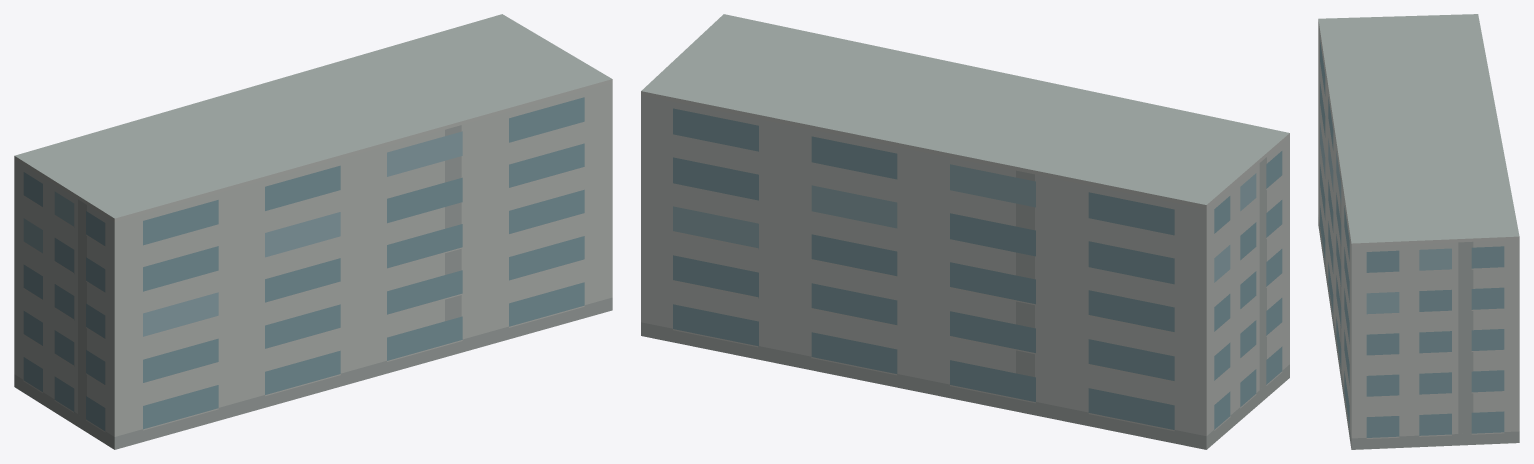
The model's file is residential-d34b0f17-c0ab-4bc3-86b8-68d15797ed85.glb.
3 renders of one model, left to right at view 1: azimuth 30°, elevation 25°; view 2: azimuth 150°, elevation 25°; view 3: azimuth 270°, elevation 25°, orthographic. The views are drawn at different scales.
Parts seen in each view (by area): view 1: residential-d34b0f17-c0ab-4bc3-86b8-68d15797ed85.tmp; view 2: residential-d34b0f17-c0ab-4bc3-86b8-68d15797ed85.tmp; view 3: residential-d34b0f17-c0ab-4bc3-86b8-68d15797ed85.tmp.
Boxes of the visible parts, x1,y1,x2,y2 form: residential-d34b0f17-c0ab-4bc3-86b8-68d15797ed85.tmp: [14, 14, 612, 449]; residential-d34b0f17-c0ab-4bc3-86b8-68d15797ed85.tmp: [641, 14, 1289, 449]; residential-d34b0f17-c0ab-4bc3-86b8-68d15797ed85.tmp: [1318, 14, 1519, 449].
Size of the model in its own units: 36.38 by 15.25 by 13.48.
